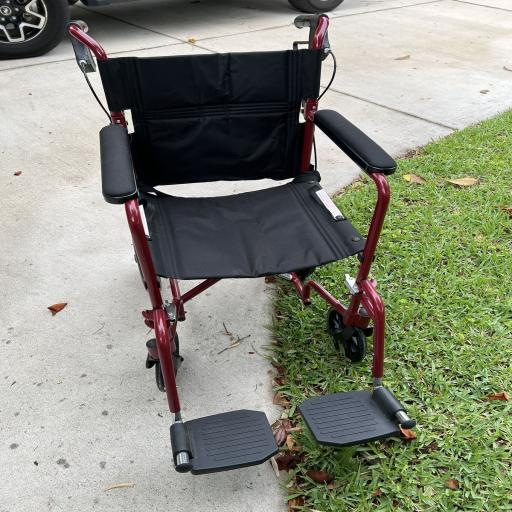wheelchair: (64, 7, 419, 476)
